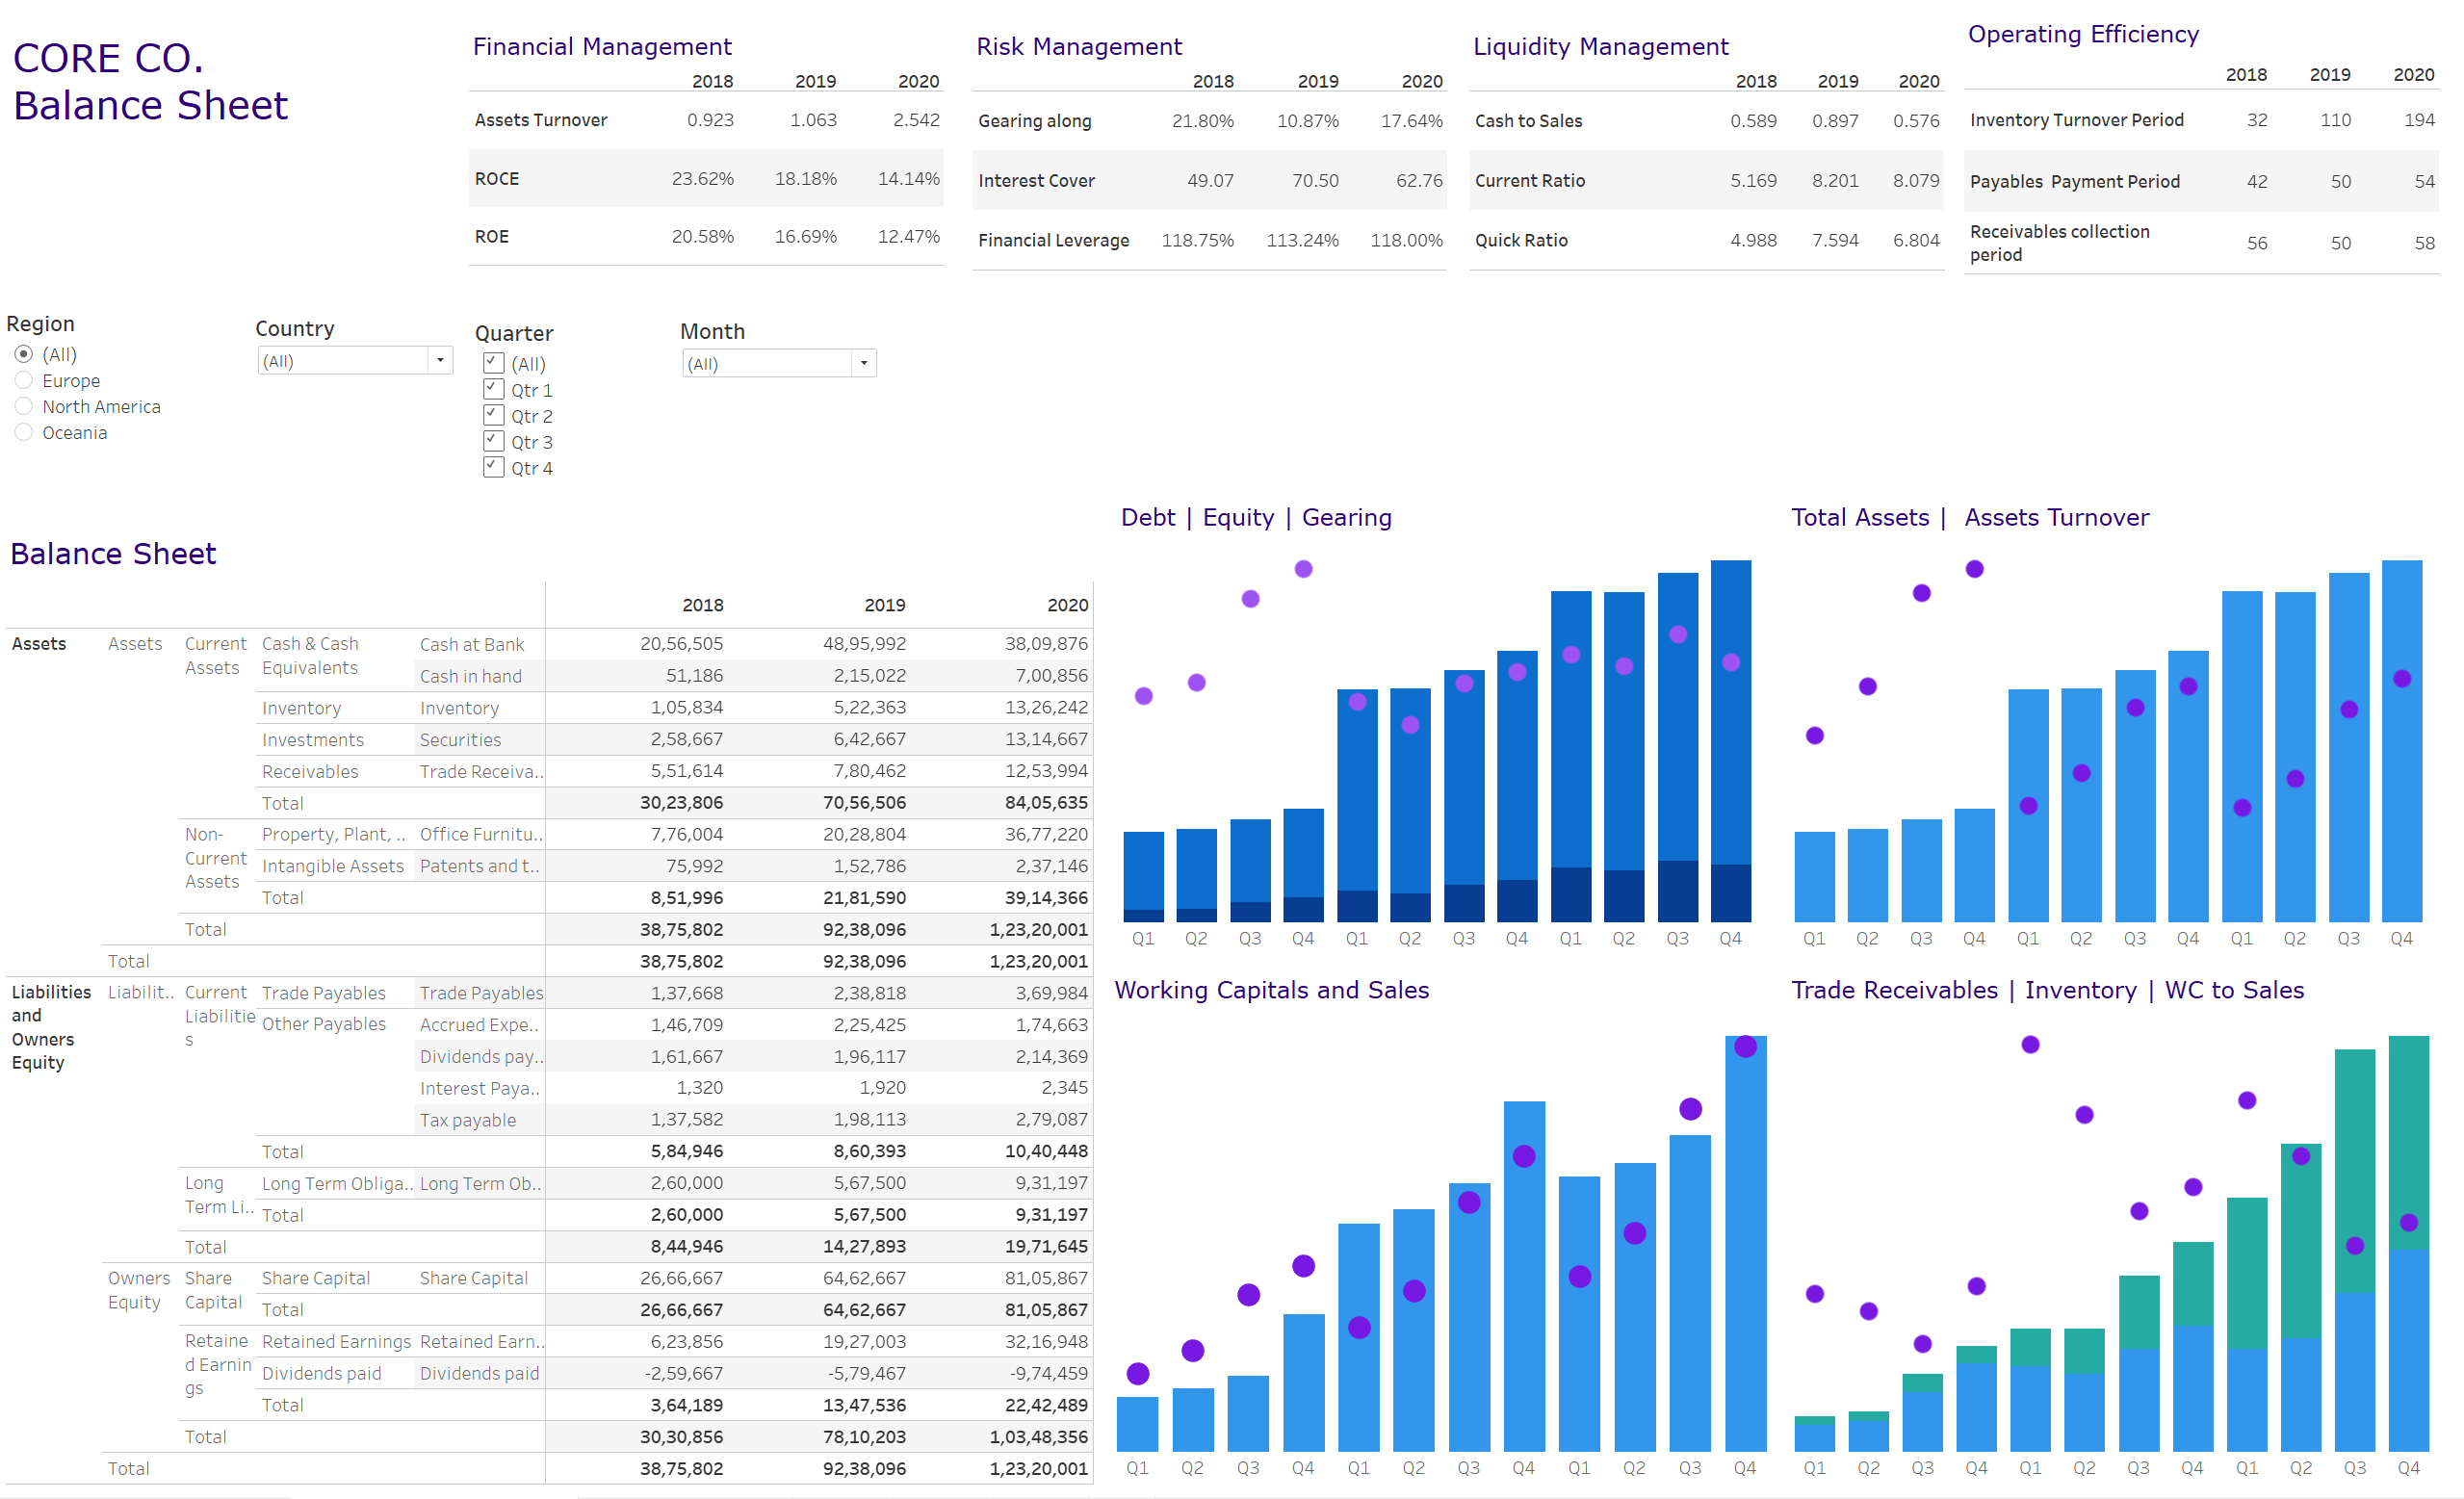

The page's visual inventory and layout, read from the dashboard file:
{"tool":"tableau","page":{"name":"Financial Management Dashboard","canvas":[1000,1000],"units":"permille","ordinal":1},"visuals":[{"type":"text","box":[3.6,9.8,154.8,89]},{"type":"worksheet","title":"Operating Efficiency","mark":"Automatic","cols":["Date (Calendar)"],"box":[796.8,10.6,192.9,172.7]},{"type":"worksheet","title":"FM","mark":"Automatic","cols":["Date (Calendar)"],"box":[190.2,18.9,192.9,162.1]},{"type":"worksheet","title":"RM","mark":"Automatic","cols":["Date (Calendar)"],"box":[394.4,18.9,192.9,162.1]},{"type":"worksheet","title":"LM","mark":"Automatic","cols":["Date (Calendar)"],"box":[596.2,18.9,192.9,162.1]},{"type":"filter","title":"BS","param":"[federated.1s87rl710kylzb1b4fb0w1q7lk72].[none:Region:nk]","box":[2.2,205.9,91.1,129.7]},{"type":"filter","title":"BS","param":"[federated.1s87rl710kylzb1b4fb0w1q7lk72].[none:Country:nk]","box":[103.6,208.9,81.7,132]},{"type":"filter","title":"BS","param":"[federated.1s87rl710kylzb1b4fb0w1q7lk72].[none:Month:nk]","box":[275.9,211.2,81.2,132]},{"type":"filter","title":"BS","param":"[federated.1s87rl710kylzb1b4fb0w1q7lk72].[none:Quarter:nk]","box":[192.5,211.9,71.8,150.8]},{"type":"worksheet","title":"Debt | Equity | Gearing","mark":"Bar","rows":["Calculation_1984117143679758352"],"cols":["Date (Calendar)","Date (Calendar)"],"box":[453.1,333.3,260.2,301.7]},{"type":"worksheet","title":"Total Assets |  assets turnover","mark":"Bar","rows":["Calculation_1984117143640256514","Calculation_1984117143674896396"],"cols":["Date (Calendar)","Date (Calendar)"],"box":[725.4,333.3,260.2,301.7]},{"type":"worksheet","title":"BS","mark":"Automatic","rows":["Class","SubClass","SubClass2","Account","SubAccount"],"cols":["Date (Calendar)"],"box":[2.2,355.2,441.4,636.5]},{"type":"worksheet","title":"Working Capital","mark":"Bar","rows":["Calculation_1984117143704514595","Calculation_321725930986655744"],"cols":["Date (Calendar)","Date (Calendar)"],"box":[450.4,648.6,269.2,339.4]},{"type":"worksheet","title":"Receivables","mark":"Bar","rows":["Calculation_1984117143707181092"],"cols":["Date (Calendar)","Date (Calendar)"],"box":[725.4,648.6,262.9,339.4]}]}

Visuals, with their boxes on the dashboard's canvas, which has no fixed pixel size, in thousandths of its width and height (x1, y1, x2, y2). These are canvas units, not pixel positions in the 2464x1499 screenshot, which may show the page scaled, cropped or inside an application window:
text: (x1=4, y1=10, x2=158, y2=99)
"Operating Efficiency" worksheet: (x1=797, y1=11, x2=990, y2=183)
"FM" worksheet: (x1=190, y1=19, x2=383, y2=181)
"RM" worksheet: (x1=394, y1=19, x2=587, y2=181)
"LM" worksheet: (x1=596, y1=19, x2=789, y2=181)
"BS" filter: (x1=2, y1=206, x2=93, y2=336)
"BS" filter: (x1=104, y1=209, x2=185, y2=341)
"BS" filter: (x1=276, y1=211, x2=357, y2=343)
"BS" filter: (x1=192, y1=212, x2=264, y2=363)
"Debt | Equity | Gearing" worksheet (Bar marks): (x1=453, y1=333, x2=713, y2=635)
"Total Assets |  assets turnover" worksheet (Bar marks): (x1=725, y1=333, x2=986, y2=635)
"BS" worksheet: (x1=2, y1=355, x2=444, y2=992)
"Working Capital" worksheet (Bar marks): (x1=450, y1=649, x2=720, y2=988)
"Receivables" worksheet (Bar marks): (x1=725, y1=649, x2=988, y2=988)
